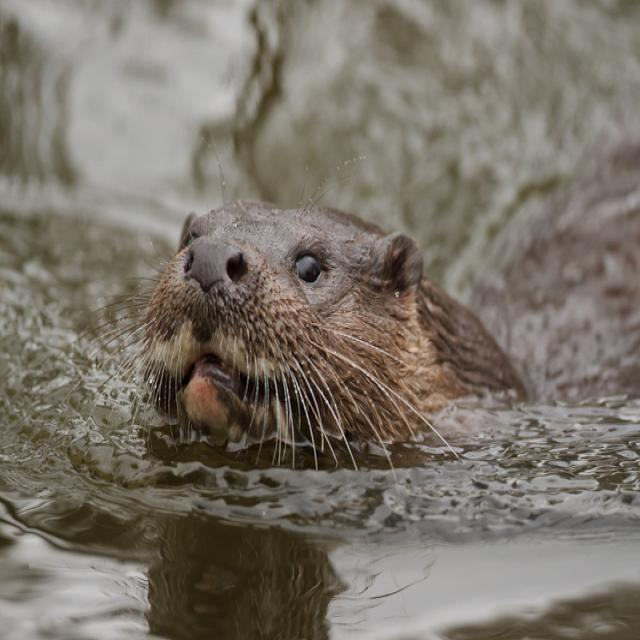otter: (144, 201, 428, 436)
